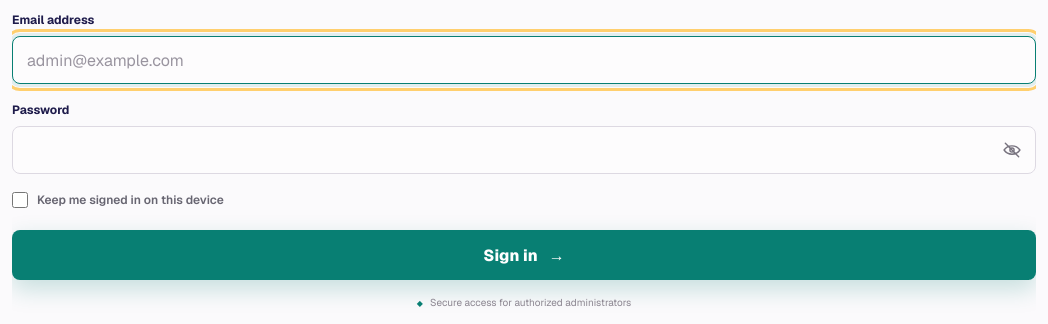
Test: LoginForm › supports password reveal without submitting the form
Type "secret" into the password field labelled "Password". click: (524, 150)
box: [12,126,1036,174]
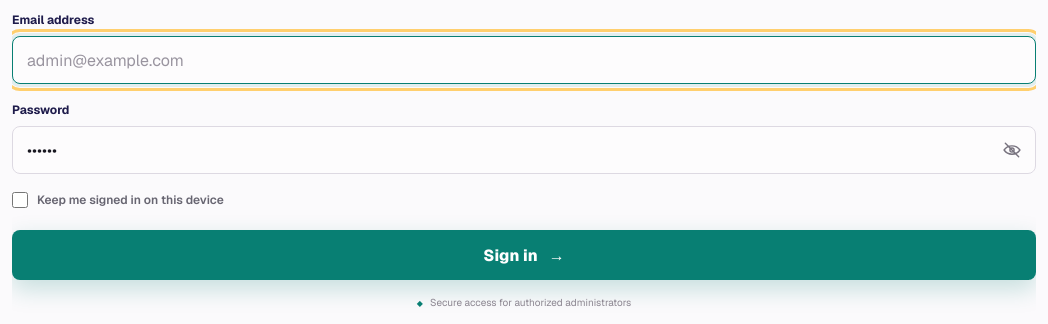
Click the button named "Show password". click: click(1012, 150)
box: [991,129,1033,171]
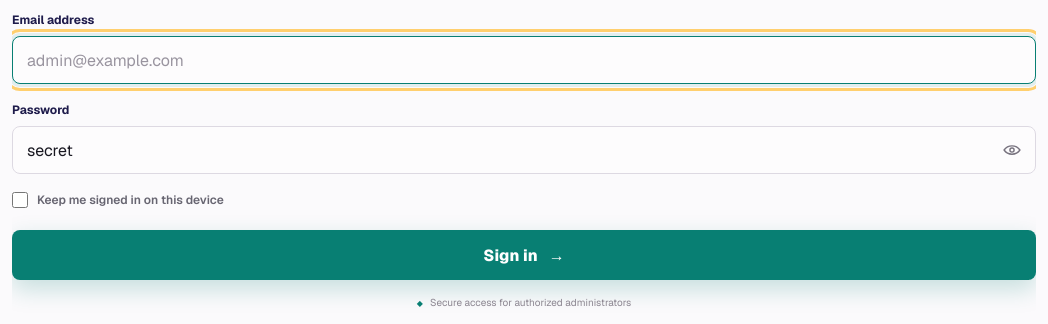
Now the field labelled "Password" shows its text, box [12,126,1036,174]
